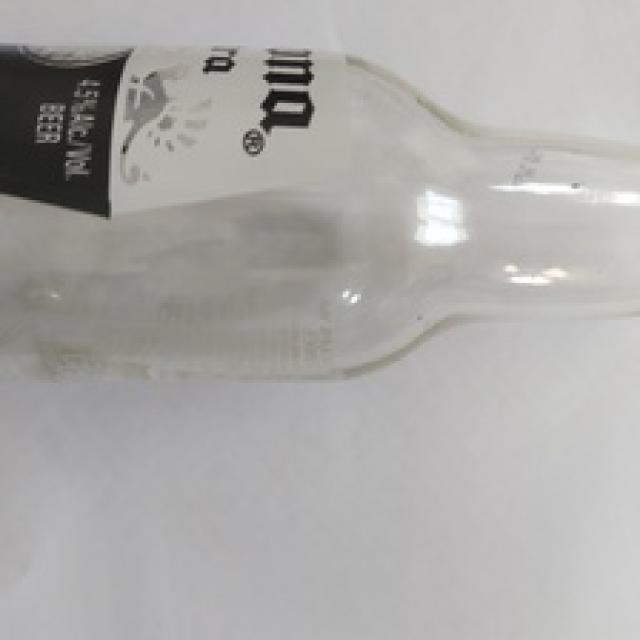Glass: (0, 42, 640, 382)
